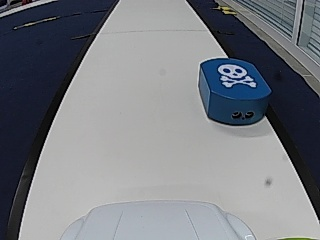danger: (219, 64, 254, 88)
